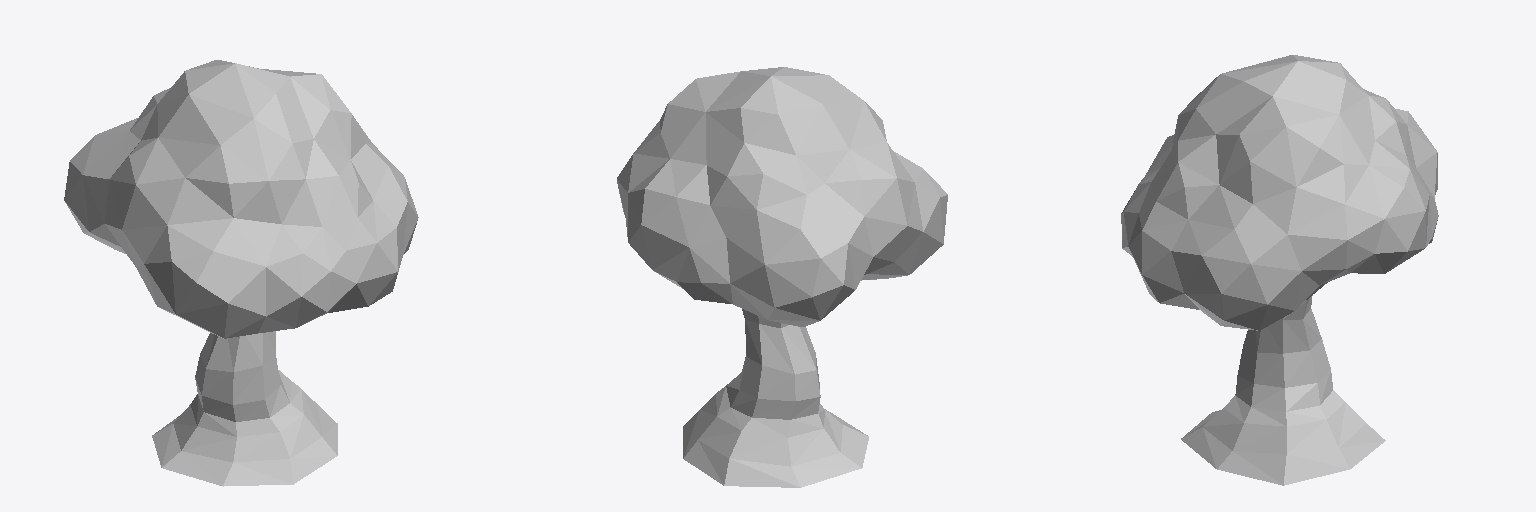
Rendered from tree6.obj.
3 renders of one model, left to right at view 1: azimuth 30°, elevation 25°; view 2: azimuth 150°, elevation 25°; view 3: azimuth 270°, elevation 25°, orthographic.
Parts seen in each view (by area): view 1: LowPoly_Tree_02_Cube.000; view 2: LowPoly_Tree_02_Cube.000; view 3: LowPoly_Tree_02_Cube.000.
Part boxes in pixels (x1,y1,x2,y2): LowPoly_Tree_02_Cube.000: (64,60,418,486); LowPoly_Tree_02_Cube.000: (617,67,947,487); LowPoly_Tree_02_Cube.000: (1121,55,1438,485).
Size of the model in its own units: 1.83 by 2.42 by 1.84.